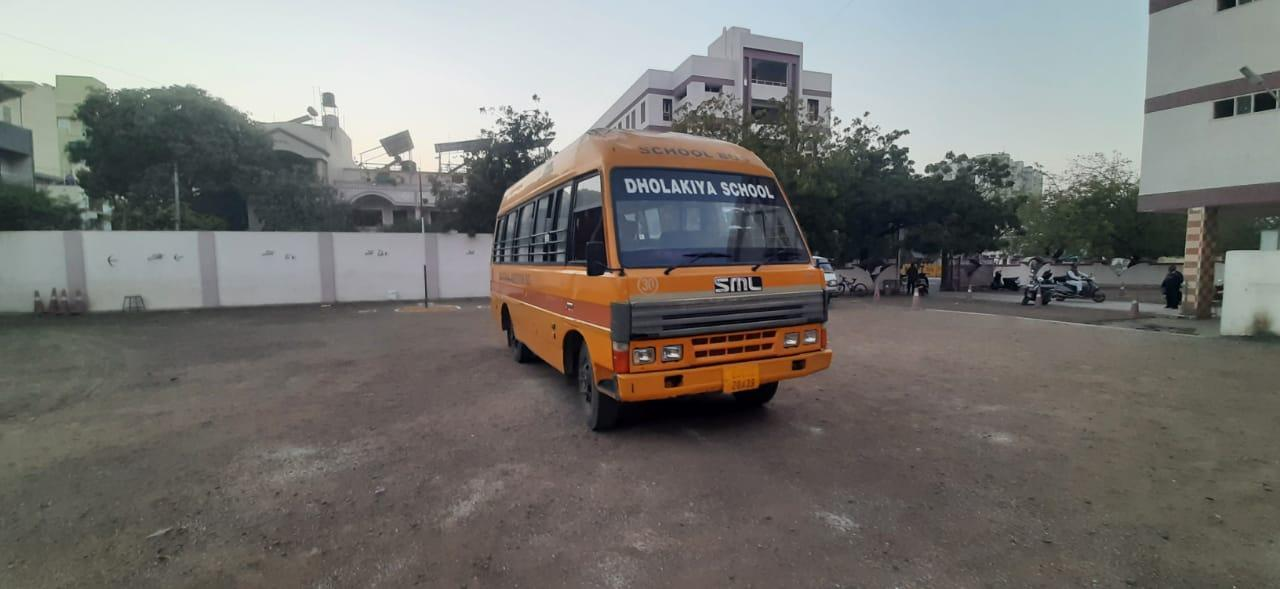Bus: (483, 122, 855, 449)
